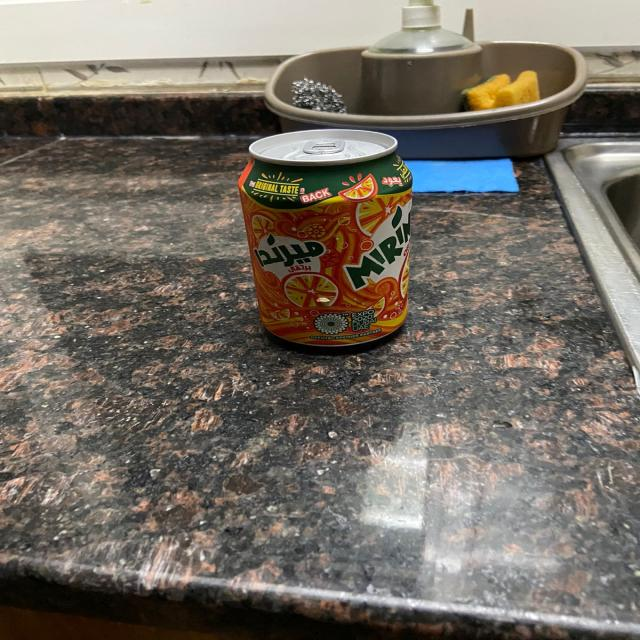non-organic waste: (234, 127, 421, 354)
